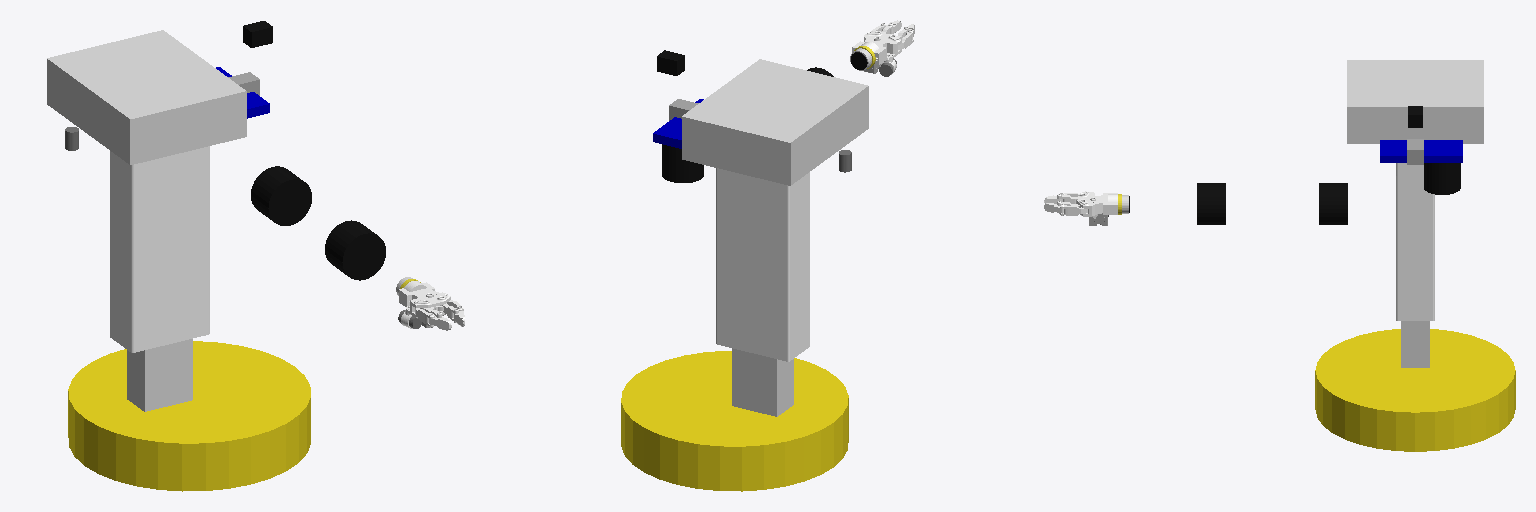
--- Facts derived from the render (not from the file) ---
3 views of the same robot in one strip: view 1: azimuth 30°, elevation 25°; view 2: azimuth 150°, elevation 25°; view 3: azimuth 270°, elevation 25° (orthographic).
Robot: marco — 50 links, 49 joints (16 revolute, 2 continuous, 1 prismatic, 30 fixed); root link base_footprint; default pose: joints at zero except 1 at the middle of their limits (torso_lift_joint = 0.22).
Links seen in each view (by area): view 1: torso_fixed_link, torso_lift_link, laptop_tray_fixed_link, arm_3_link, arm_4_link, gripper_body_link, head_1_link; view 2: torso_fixed_link, torso_lift_link, laptop_tray_fixed_link, arm_1_link, gripper_body_link, head_1_link; view 3: torso_fixed_link, laptop_tray_fixed_link, torso_lift_link, arm_1_link, arm_3_link, arm_4_link, gripper_body_link.
Link boxes in pixels (x1=…): torso_fixed_link: x1=68, y1=339, x2=310, y2=491; torso_lift_link: x1=110, y1=72, x2=259, y2=352; laptop_tray_fixed_link: x1=47, y1=30, x2=246, y2=164; arm_3_link: x1=251, y1=166, x2=311, y2=225; arm_4_link: x1=325, y1=220, x2=385, y2=280; gripper_body_link: x1=405, y1=287, x2=450, y2=318; head_1_link: x1=243, y1=21, x2=272, y2=47; torso_fixed_link: x1=621, y1=348, x2=848, y2=491; torso_lift_link: x1=669, y1=99, x2=809, y2=361; laptop_tray_fixed_link: x1=682, y1=59, x2=868, y2=185; arm_1_link: x1=653, y1=99, x2=703, y2=182; gripper_body_link: x1=859, y1=31, x2=901, y2=60; head_1_link: x1=657, y1=50, x2=684, y2=75; torso_fixed_link: x1=1315, y1=321, x2=1515, y2=451; laptop_tray_fixed_link: x1=1347, y1=60, x2=1483, y2=143; torso_lift_link: x1=1396, y1=139, x2=1434, y2=320; arm_1_link: x1=1380, y1=140, x2=1462, y2=194; arm_3_link: x1=1319, y1=183, x2=1347, y2=224; arm_4_link: x1=1197, y1=183, x2=1225, y2=224; gripper_body_link: x1=1078, y1=191, x2=1107, y2=218.
Size in the robot's own frame: 0.522 by 1.13 by 0.8643 metres.
13 mesh visuals loaded from 23 distinct referenced files (11 binary STL); not drawn: 20 (reference not matched to a file when rendering).

robot.urdf — marco:
<?xml version="1.0" ?>
<!-- =================================================================================== -->
<!-- |    This document was autogenerated by xacro from [local-path]/moveit_ws/src/robot_models/marco/marco_description/robots/marco_titanium.urdf.xacro | -->
<!-- |    EDITING THIS FILE BY HAND IS NOT RECOMMENDED                                 | -->
<!-- =================================================================================== -->
<!--
  Copyright (c) 2011, PAL Robotics, S.L.
  All rights reserved.

  This work is licensed under the Creative Commons Attribution-NonCommercial-NoDerivs 3.0 Unported License.
  To view a copy of this license, visit http://creativecommons.org/licenses/by-nc-nd/3.0/ or send a letter to
  Creative Commons, 444 Castro Street, Suite 900, Mountain View, California, 94041, USA.
-->
<robot name="marco" xmlns:xacro="http://www.ros.org/wiki/xacro">
  <!--<xacro:include filename="$(find pmb2_description)/urdf/sensors/sick_tim561_laser.urdf.xacro"/>-->
  <!--<property name="base_merge_laser_x" value="0.0"/>
  <property name="base_merge_laser_y" value="0.0"/>
  <property name="base_merge_laser_z" value="0.05275"/>
  <property name="base_back_laser_x" value="-0.185"/>
  <property name="base_back_laser_y" value="0.0"/>
  <property name="base_back_laser_z" value="0.05275"/>-->
  <!-- TODO: Update dynamic models -->
  <!-- TODO: Update dynamic models -->
  <!-- Generic simulator_gazebo plugins -->
  <!--<xacro:include filename="$(find hit_gripper_description)/gazebo/gazebo.urdf.xacro" />-->
  <gazebo>
    <plugin filename="libgazebo_ros_control.so" name="gazebo_ros_control">
      <ns/>
      <!-- <robotSimType>marco_hardware_gazebo/MarcoHardwareGazebo</robotSimType> -->
      <robotSimType>pal_hardware_gazebo/PalHardwareGazebo</robotSimType>
      <!-- <robotSimType>gazebo_ros_control/DefaultRobotHWSim</robotSimType> -->
      <robotNamespace/>
      <controlPeriod>0.001</controlPeriod>
    </plugin>
    <plugin filename="libgazebo_ros_p3d.so" name="gazebo_ros_p3d">
      <bodyName>base_link</bodyName>
      <topicName>ground_truth_odom</topicName>
      <alwaysOn>true</alwaysOn>
      <updateRate>100.0</updateRate>
    </plugin>
  </gazebo>
  <gazebo reference="arm_7_link">
    <kp>1000000.0</kp>
    <kd>100.0</kd>
    <mu1>1.0</mu1>
    <mu2>1.0</mu2>
    <fdir1>1 0 0</fdir1>
    <maxVel>1.0</maxVel>
    <minDepth>0.0</minDepth>
  </gazebo>
  <gazebo>
    <plugin filename="libgazebo_world_odometry.so" name="gazebo_ros_odometry">
      <frameName>base_footprint</frameName>
      <topicName>floating_base_pose_simulated</topicName>
    </plugin>
  </gazebo>
  <gazebo reference="base_imu_link">
    <!-- this is expected to be reparented to pelvis with appropriate offset
         when imu_link is reduced by fixed joint reduction -->
    <!-- todo: this is working with gazebo 1.4, need to write a unit test -->
    <sensor name="imu_sensor" type="imu">
      <always_on>1</always_on>
      <update_rate>1000.0</update_rate>
      <imu>
        <noise>
          <type>gaussian</type>
          <!-- Noise parameters from Boston Dynamics
               (http://gazebosim.org/wiki/Sensor_noise):
                 rates (rad/s): mean=0, stddev=2e-4
                 accels (m/s/s): mean=0, stddev=1.7e-2
                 rate bias (rad/s): 5e-6 - 1e-5
                 accel bias (m/s/s): 1e-1
               Experimentally, simulation provide rates with noise of
               about 1e-3 rad/s and accels with noise of about 1e-1 m/s/s.
               So we don't expect to see the noise unless number of inner iterations
               are increased.

               We will add bias.  In this model, bias is sampled once for rates
               and once for accels at startup; the sign (negative or positive)
               of each bias is then switched with equal probability.  Thereafter,
               the biases are fixed additive offsets.  We choose
               bias means and stddevs to produce biases close to the provided
               data. -->
          <rate>
            <mean>0.0</mean>
            <stddev>2e-4</stddev>
            <bias_mean>0.0000075</bias_mean>
            <bias_stddev>0.0000008</bias_stddev>
          </rate>
          <accel>
            <mean>0.0</mean>
            <stddev>1.7e-2</stddev>
            <bias_mean>0.1</bias_mean>
            <bias_stddev>0.001</bias_stddev>
          </accel>
        </noise>
      </imu>
    </sensor>
  </gazebo>
  <material name="Blue">
    <color rgba="0.0 0.0 0.8 1.0"/>
  </material>
  <material name="Green">
    <color rgba="0.0 0.8 0.0 1.0"/>
  </material>
  <material name="Grey">
    <color rgba="0.7 0.7 0.7 1.0"/>
  </material>
  <material name="LightGrey">
    <color rgba="0.9 0.9 0.9 1.0"/>
  </material>
  <material name="DarkGrey">
    <color rgba="0.1 0.1 0.1 1.0"/>
  </material>
  <material name="Red">
    <color rgba="0.8 0.0 0.0 1.0"/>
  </material>
  <material name="White">
    <color rgba="1.0 1.0 1.0 1.0"/>
  </material>
  <material name="Yellow">
    <color rgba="0.96 0.88 0.14 1.0"/>
  </material>
  <!-- Base -->
  <link name="base_link">
    <inertial>
      <origin rpy="0 0 0" xyz="0.0123 0.0071 0.064"/>
      <mass value="28.26649"/>
      <inertia ixx="0.465408937" ixy="0.002160024" ixz="-0.001760255" iyy="0.483193291" iyz="-0.000655952" izz="0.550939703"/>
    </inertial>
    <visual>
      <origin rpy="0 0 0" xyz="0 0 0"/>
      <geometry>
        <mesh filename="package://ant_description/meshes/base/base.stl"/>
      </geometry>
      <material name="DarkGrey"/>
    </visual>
    <collision>
      <origin rpy="0 0 0" xyz="0 0 0"/>
      <geometry>
        <mesh filename="package://ant_description/meshes/base/base_collision.dae"/>
      </geometry>
      <material name="DarkGrey"/>
    </collision>
  </link>
  <gazebo reference="base_link">
    <material>Gazebo/DarkGrey</material>
  </gazebo>
  <!-- Base footprint -->
  <link name="base_footprint"/>
  <joint name="base_footprint_joint" type="fixed">
    <origin rpy="0 0 0" xyz="0 0 0.0985"/>
    <child link="base_link"/>
    <parent link="base_footprint"/>
  </joint>
  <!-- gazebo parameters are given here for base_link thru base_footprint -->
  <gazebo reference="base_footprint">
    <kp>100000000.0</kp>
    <kd>10.0</kd>
    <mu1>0.1</mu1>
    <mu2>0.1</mu2>
    <fdir1>1 0 0</fdir1>
    <maxVel>10.0</maxVel>
    <minDepth>0.0005</minDepth>
    <laserRetro>0</laserRetro>
  </gazebo>
  <!-- Laser -->
  <!-- Theoretic FOV = 220 -->
  <!--<xacro:sick_tim561_laser name="${name}_laser" parent="${name}" ros_topic="scan" update_rate="10" min_angle="${-110 * deg_to_rad}" max_angle="${110 * deg_to_rad}" >
      <origin xyz="${base_laser_x} ${base_laser_y} ${base_laser_z}" rpy="0 0 0" />
    </xacro:sick_tim561_laser>-->
  <link name="base_laser_link" type="laser">
    <inertial>
      <origin rpy="0 0 0" xyz="0 0 -0.04225"/>
      <mass value="0.160"/>
      <inertia ixx="0.00008631543" ixy="-0.00000088815" ixz="-0.00000094079" iyy="0.00008461544" iyz="0.00000139389" izz="0.00005947238"/>
    </inertial>
    <visual>
      <origin rpy="0 0 0" xyz="0 0 0"/>
      <geometry>
        <mesh filename="package://ant_description/meshes/sensors/hokuyo_urg_04lx_ug01.stl"/>
      </geometry>
      <material name="DarkGrey"/>
    </visual>
  </link>
  <joint name="base_laser_joint" type="fixed">
    <axis xyz="0 1 0"/>
    <origin rpy="0 0 0" xyz="0.185 0.0 0.01"/>
    <parent link="base_link"/>
    <child link="base_laser_link"/>
    <dynamics damping="1" friction="1.0"/>
    <limit effort="60" lower="0" upper="0" velocity="20"/>
  </joint>
  <gazebo reference="base_laser_link">
    <sensor name="base_laser" type="ray">
      <pose>0 0 0 0 0 0</pose>
      <update_rate>10</update_rate>
      <visualize>true</visualize>
      <ray>
        <scan>
          <horizontal>
            <!-- 683 steps in 240deg fov -->
            <samples>626.083333333</samples>
            <resolution>1</resolution>
            <!-- not the sensor resolution; just 1 -->
            <min_angle>-1.91986217719</min_angle>
            <max_angle>1.91986217719</max_angle>
          </horizontal>
        </scan>
        <range>
          <min>0.02</min>
          <max>5.6</max>
          <resolution>0.001</resolution>
        </range>
      </ray>
      <plugin filename="libgazebo_ros_laser.so" name="gazebo_ros_hokuyo_laser">
        <gaussianNoise>0.03</gaussianNoise>
        <alwaysOn>true</alwaysOn>
        <updateRate>10</updateRate>
        <topicName>scan</topicName>
        <frameName>base_laser_link</frameName>
      </plugin>
    </sensor>
  </gazebo>
  <!-- Laser -->
  <!--<xacro:hokuyo_merge name="${name}_merge_laser" parent="${name}" ros_topic="scan_merge" update_rate="10" min_angle="${-90 * deg_to_rad}" max_angle="${90 * deg_to_rad}" >
      <origin xyz="${base_merge_laser_x} ${base_merge_laser_y} ${base_merge_laser_z}" rpy="0 0 0" />
    </xacro:hokuyo_merge>-->
  <!-- Laser -->
  <!--<xacro:hokuyo_ubg_04lx_f01_laser name="${name}_back_laser" parent="${name}" ros_topic="scan_back" update_rate="10" min_angle="${-90 * deg_to_rad}" max_angle="${90 * deg_to_rad}" >
      <origin xyz="${base_back_laser_x} ${base_back_laser_y} ${base_back_laser_z}" rpy="0 0 3.14159265359" />
    </xacro:hokuyo_ubg_04lx_f01_laser>-->
  <!-- Sonar -->
  <!--xacro:range_sensor name="${name}_sonar_02" parent="${name}" ros_topic="sonar_base" update_rate="10" maxRange="0.75" minRange="0.01" fov="0.5" radiation="ultrasound">
      <origin xyz="0.18 0.0 0.04" rpy="0.0 ${-10.0 * deg_to_rad} 0.0" />
    </xacro:range_sensor-->
  <!-- Sonar -->
  <!--xacro:range_sensor name="${name}_sonar_03" parent="${name}" ros_topic="sonar_base" update_rate="10" maxRange="0.75" minRange="0.01" fov="0.5" radiation="ultrasound">
      <origin xyz="0.15 0.1 0.04" rpy="0.0 ${-10.0 * deg_to_rad} ${40.0 * deg_to_rad}" />
    </xacro:range_sensor-->
  <!-- Sonar -->
  <!--xacro:range_sensor name="${name}_sonar_01" parent="${name}" ros_topic="sonar_base" update_rate="10" maxRange="0.75" minRange="0.01" fov="0.5" radiation="ultrasound">
      <origin xyz="0.15 -0.1 0.04" rpy="0.0 ${-10.0 * deg_to_rad} ${-40.0 * deg_to_rad}" />
    </xacro:range_sensor-->
  <!-- Bumper right -->
  <!--xacro:bumper name="${name}_bumper_01" parent="${name}" ros_topic="bumper_base" update_rate="25" >
      <origin xyz="0.16 -0.12 0.00" rpy="0 0 ${-20.0 * deg_to_rad}" />
    </xacro:bumper-->
  <!-- Bumper left -->
  <!--xacro:bumper name="${name}_bumper_02" parent="${name}" ros_topic="bumper_base" update_rate="25" >
      <origin xyz="0.16 0.12 0.00" rpy="0 0 ${20.0 * deg_to_rad}" />
    </xacro:bumper-->
  <!-- IMU -->
  <!-- @todo ant_hardware_gazebo needs an IMU!  -->
  <!--<xacro:imu_sensor name="base_inclinometer" parent="${name}_link" update_rate="100.0">
      <origin xyz="0 0 ${base_length / 2}" rpy="0 0 0"/>
    </xacro:imu_sensor>-->
  <!-- IR receiver -->
  <!--xacro:ir_receiver name="${name}_ir_receiver_01" parent="${name}" ros_topic="ir_receiver_base" update_rate="10" range_min="0.0" range_max="0.75" fov="0.5">
      <origin xyz="0.17131 0.0 0.180" rpy="0.0 0.0 0.0" />
    </xacro:ir_receiver-->
  <!-- IR receiver -->
  <!--xacro:ir_receiver name="${name}_ir_receiver_02" parent="${name}" ros_topic="ir_receiver_base" update_rate="10" range_min="0.0" range_max="0.75" fov="0.5">
      <origin xyz="0.16919 0.14919 0.180" rpy="0.0 0.0 0.349" />
    </xacro:ir_receiver-->
  <!-- IR receiver -->
  <!--xacro:ir_receiver name="${name}_ir_receiver_03" parent="${name}" ros_topic="ir_receiver_base" update_rate="10" range_min="0.0" range_max="0.75" fov="0.5">
      <origin xyz="0.16919 -0.14919 0.180" rpy="0.0 0.0 -0.349" />
    </xacro:ir_receiver-->
  <link name="wheel_right_link">
    <inertial>
      <origin rpy="0 0 0" xyz="0 0 -0.00207"/>
      <mass value="1.82362"/>
      <inertia ixx="0.00499743171" ixy="4.464e-08" ixz="-0.00000002245" iyy="0.00499741733" iyz="-1.64e-09" izz="0.00839239692"/>
    </inertial>
    <visual>
      <origin rpy="-0.0 0 0" xyz="0 0 0"/>
      <geometry>
        <mesh filename="package://ant_description/meshes/wheels/wheel.stl"/>
      </geometry>
      <material name="LightGrey"/>
    </visual>
    <collision>
      <origin rpy="0 0 0" xyz="0 0 0"/>
      <geometry>
        <cylinder length="0.04" radius="0.0985"/>
      </geometry>
    </collision>
  </link>
  <joint name="wheel_right_joint" type="continuous">
    <parent link="base_link"/>
    <child link="wheel_right_link"/>
    <origin rpy="-1.57079632679 0 0" xyz="0 -0.2022 0"/>
    <axis xyz="0 0 1"/>
    <limit effort="6.0" velocity="10.152284264"/>
  </joint>
  <transmission name="wheel_right_trans">
    <type>transmission_interface/SimpleTransmission</type>
    <actuator name="wheel_right_motor">
      <mechanicalReduction>1.0</mechanicalReduction>
    </actuator>
    <joint name="wheel_right_joint">
      <hardwareInterface>hardware_interface/VelocityJointInterface</hardwareInterface>
    </joint>
  </transmission>
  <!-- Contact model for the wheel surface -->
  <gazebo reference="wheel_right_link">
    <kp>1000000.0</kp>
    <kd>100.0</kd>
    <mu1>1.0</mu1>
    <mu2>1.0</mu2>
    <fdir1>1 0 0</fdir1>
    <maxVel>1.0</maxVel>
    <minDepth>0.003</minDepth>
    <implicitSpringDamper>1</implicitSpringDamper>
    <material>Gazebo/DarkGrey</material>
  </gazebo>
  <link name="wheel_left_link">
    <inertial>
      <origin rpy="0 0 0" xyz="0 0 0.00207"/>
      <mass value="1.82362"/>
      <inertia ixx="0.00499743171" ixy="-4.464e-08" ixz="-0.00000002245" iyy="0.00499741733" iyz="1.64e-09" izz="0.00839239692"/>
    </inertial>
    <visual>
      <origin rpy="-3.14159265359 0 0" xyz="0 0 0"/>
      <geometry>
        <mesh filename="package://ant_description/meshes/wheels/wheel.stl"/>
      </geometry>
      <material name="LightGrey"/>
    </visual>
    <collision>
      <origin rpy="0 0 0" xyz="0 0 0"/>
      <geometry>
        <cylinder length="0.04" radius="0.0985"/>
      </geometry>
    </collision>
  </link>
  <joint name="wheel_left_joint" type="continuous">
    <parent link="base_link"/>
    <child link="wheel_left_link"/>
    <origin rpy="-1.57079632679 0 0" xyz="0 0.2022 0"/>
    <axis xyz="0 0 1"/>
    <limit effort="6.0" velocity="10.152284264"/>
  </joint>
  <transmission name="wheel_left_trans">
    <type>transmission_interface/SimpleTransmission</type>
    <actuator name="wheel_left_motor">
      <mechanicalReduction>1.0</mechanicalReduction>
    </actuator>
    <joint name="wheel_left_joint">
      <hardwareInterface>hardware_interface/VelocityJointInterface</hardwareInterface>
    </joint>
  </transmission>
  <!-- Contact model for the wheel surface -->
  <gazebo reference="wheel_left_link">
    <kp>1000000.0</kp>
    <kd>100.0</kd>
    <mu1>1.0</mu1>
    <mu2>1.0</mu2>
    <fdir1>1 0 0</fdir1>
    <maxVel>1.0</maxVel>
    <minDepth>0.003</minDepth>
    <implicitSpringDamper>1</implicitSpringDamper>
    <material>Gazebo/DarkGrey</material>
  </gazebo>
  <link name="caster_front_right_1_link">
    <inertial>
      <origin rpy="0 0 0" xyz="-0.01108 0.00003 -0.030"/>
      <mass value="0.101"/>
      <inertia ixx="0.00002779423" ixy="-0.00000001384" ixz="0.0000074479" iyy="0.00002767062" iyz="-0.00000002774" izz="0.00001727605"/>
    </inertial>
    <visual>
      <origin rpy="0 0 0" xyz="0 0 0"/>
      <geometry>
        <mesh filename="package://ant_description/meshes/wheels/caster_1.stl"/>
      </geometry>
      <material name="Grey"/>
    </visual>
    <!--<collision>
        <origin xyz="0 0 0" rpy="0 0 0"/>
        <geometry>
          <mesh filename="package://ant_description/meshes/wheels/caster.stl"/>
        </geometry>
      </collision>-->
  </link>
  <link name="caster_front_right_2_link">
    <inertial>
      <origin rpy="0 0 0" xyz="0 0 0"/>
      <mass value="0.03677"/>
      <inertia ixx="0.00000755221" ixy="0" ixz="0" iyy="0.00000755221" iyz="0" izz="0.00001281996"/>
    </inertial>
    <visual>
      <origin rpy="0 0 0" xyz="0 0 0"/>
      <geometry>
        <mesh filename="package://ant_description/meshes/wheels/caster_2.stl"/>
      </geometry>
      <material name="Grey"/>
    </visual>
    <!--<collision>
        <origin xyz="0 0 0" rpy="0 0 0"/>
        <geometry>
          <cylinder radius="${radius}" length="${width}"/>
        </geometry>
        <surface>
          <friction>
            <ode>
              <mu> 0.01</mu>
              <mu2>0.01</mu2>
            </ode>
          </friction>
        </surface>
      </collision>-->
  </link>
  <joint name="caster_front_right_1_joint" type="fixed">
    <parent link="base_link"/>
    <child link="caster_front_right_1_link"/>
    <origin rpy="0 0 0" xyz="0.1715 -0.102 -0.04"/>
    <axis xyz="0 0 1"/>
  </joint>
  <joint name="caster_front_right_2_joint" type="fixed">
    <parent link="caster_front_right_1_link"/>
    <child link="caster_front_right_2_link"/>
    <origin rpy="-1.57079632679 0 0" xyz="-0.017 0.0003 -0.032"/>
    <axis xyz="0 0 1"/>
  </joint>
  <!-- Transmission -->
  <!--<xacro:caster_transmission name="${name}" side="${side}" number="${number}" reduction="1"/>-->
  <!-- Gazebo extensions -->
  <!--<xacro:caster_gazebo side="${side}"/>-->
  <link name="caster_front_left_1_link">
    <inertial>
      <origin rpy="0 0 0" xyz="-0.01108 0.00003 -0.030"/>
      <mass value="0.101"/>
      <inertia ixx="0.00002779423" ixy="-0.00000001384" ixz="0.0000074479" iyy="0.00002767062" iyz="-0.00000002774" izz="0.00001727605"/>
    </inertial>
    <visual>
      <origin rpy="0 0 0" xyz="0 0 0"/>
      <geometry>
        <mesh filename="package://ant_description/meshes/wheels/caster_1.stl"/>
      </geometry>
      <material name="Grey"/>
    </visual>
    <!--<collision>
        <origin xyz="0 0 0" rpy="0 0 0"/>
        <geometry>
          <mesh filename="package://ant_description/meshes/wheels/caster.stl"/>
        </geometry>
      </collision>-->
  </link>
  <link name="caster_front_left_2_link">
    <inertial>
      <origin rpy="0 0 0" xyz="0 0 0"/>
      <mass value="0.03677"/>
      <inertia ixx="0.00000755221" ixy="0" ixz="0" iyy="0.00000755221" iyz="0" izz="0.00001281996"/>
    </inertial>
    <visual>
      <origin rpy="0 0 0" xyz="0 0 0"/>
      <geometry>
        <mesh filename="package://ant_description/meshes/wheels/caster_2.stl"/>
      </geometry>
      <material name="Grey"/>
    </visual>
    <!--<collision>
        <origin xyz="0 0 0" rpy="0 0 0"/>
        <geometry>
          <cylinder radius="${radius}" length="${width}"/>
        </geometry>
        <surface>
          <friction>
            <ode>
              <mu> 0.01</mu>
              <mu2>0.01</mu2>
            </ode>
          </friction>
        </surface>
      </collision>-->
  </link>
  <joint name="caster_front_left_1_joint" type="fixed">
    <parent link="base_link"/>
    <child link="caster_front_left_1_link"/>
    <origin rpy="0 0 0" xyz="0.1715 0.102 -0.04"/>
    <axis xyz="0 0 1"/>
  </joint>
  <joint name="caster_front_left_2_joint" type="fixed">
    <parent link="caster_front_left_1_link"/>
    <child link="caster_front_left_2_link"/>
    <origin rpy="-1.57079632679 0 0" xyz="-0.017 0.0003 -0.032"/>
    <axis xyz="0 0 1"/>
  </joint>
  <!-- Transmission -->
  <!--<xacro:caster_transmission name="${name}" side="${side}" number="${number}" reduction="1"/>-->
  <!-- Gazebo extensions -->
  <!--<xacro:caster_gazebo side="${side}"/>-->
  <link name="caster_back_right_1_link">
    <inertial>
      <origin rpy="0 0 0" xyz="-0.01108 0.00003 -0.030"/>
      <mass value="0.101"/>
      <inertia ixx="0.00002779423" ixy="-0.00000001384" ixz="0.0000074479" iyy="0.00002767062" iyz="-0.00000002774" izz="0.00001727605"/>
    </inertial>
    <visual>
      <origin rpy="0 0 0" xyz="0 0 0"/>
      <geometry>
        <mesh filename="package://ant_description/meshes/wheels/caster_1.stl"/>
      </geometry>
      <material name="Grey"/>
    </visual>
    <!--<collision>
        <origin xyz="0 0 0" rpy="0 0 0"/>
        <geometry>
          <mesh filename="package://ant_description/meshes/wheels/caster.stl"/>
        </geometry>
      </collision>-->
  </link>
  <link name="caster_back_right_2_link">
    <inertial>
      <origin rpy="0 0 0" xyz="0 0 0"/>
      <mass value="0.03677"/>
      <inertia ixx="0.00000755221" ixy="0" ixz="0" iyy="0.00000755221" iyz="0" izz="0.00001281996"/>
    </inertial>
    <visual>
      <origin rpy="0 0 0" xyz="0 0 0"/>
      <geometry>
        <mesh filename="package://ant_description/meshes/wheels/caster_2.stl"/>
      </geometry>
      <material name="Grey"/>
    </visual>
    <!--<collision>
        <origin xyz="0 0 0" rpy="0 0 0"/>
        <geometry>
          <cylinder radius="${radius}" length="${width}"/>
        </geometry>
        <surface>
          <friction>
            <ode>
              <mu> 0.01</mu>
              <mu2>0.01</mu2>
            </ode>
          </friction>
        </surface>
      </collision>-->
  </link>
  <joint name="caster_back_right_1_joint" type="fixed">
    <parent link="base_link"/>
    <child link="caster_back_right_1_link"/>
    <origin rpy="0 0 0" xyz="-0.1715 -0.102 -0.04"/>
    <axis xyz="0 0 1"/>
  </joint>
  <joint name="caster_back_right_2_joint" type="fixed">
    <parent link="caster_back_right_1_link"/>
    <child link="caster_back_right_2_link"/>
    <origin rpy="-1.57079632679 0 0" xyz="-0.017 0.0003 -0.032"/>
    <axis xyz="0 0 1"/>
  </joint>
  <!-- Transmission -->
  <!--<xacro:caster_transmission name="${name}" side="${side}" number="${number}" reduction="1"/>-->
  <!-- Gazebo extensions -->
  <!--<xacro:caster_gazebo side="${side}"/>-->
  <link name="caster_back_left_1_link">
    <inertial>
      <origin rpy="0 0 0" xyz="-0.01108 0.00003 -0.030"/>
      <mass value="0.101"/>
      <inertia ixx="0.00002779423" ixy="-0.00000001384" ixz="0.0000074479" iyy="0.00002767062" iyz="-0.00000002774" izz="0.00001727605"/>
    </inertial>
    <visual>
      <origin rpy="0 0 0" xyz="0 0 0"/>
      <geometry>
        <mesh filename="package://ant_description/meshes/wheels/caster_1.stl"/>
      </geometry>
      <material name="Grey"/>
    </visual>
    <!--<collision>
        <origin xyz="0 0 0" rpy="0 0 0"/>
        <geometry>
          <mesh filename="package://ant_description/meshes/wheels/caster.stl"/>
        </geometry>
      </collision>-->
  </link>
  <link name="caster_back_left_2_link">
    <inertial>
      <origin rpy="0 0 0" xyz="0 0 0"/>
      <mass value="0.03677"/>
      <inertia ixx="0.00000755221" ixy="0" ixz="0" iyy="0.00000755221" iyz="0" izz="0.00001281996"/>
    </inertial>
    <visual>
      <origin rpy="0 0 0" xyz="0 0 0"/>
      <geometry>
        <mesh filename="package://ant_description/meshes/wheels/caster_2.stl"/>
      </geometry>
      <material name="Grey"/>
    </visual>
    <!--<collision>
        <origin xyz="0 0 0" rpy="0 0 0"/>
        <geometry>
          <cylinder radius="${radius}" length="${width}"/>
        </geometry>
        <surface>
          <friction>
            <ode>
              <mu> 0.01</mu>
              <mu2>0.01</mu2>
            </ode>
          </friction>
        </surface>
      </collision>-->
  </link>
  <joint name="caster_back_left_1_joint" type="fixed">
    <parent link="base_link"/>
    <child link="caster_back_left_1_link"/>
    <origin rpy="0 0 0" xyz="-0.1715 0.102 -0.04"/>
    <axis xyz="0 0 1"/>
  </joint>
  <joint name="caster_back_left_2_joint" type="fixed">
    <parent link="caster_back_left_1_link"/>
    <child link="caster_back_left_2_link"/>
    <origin rpy="-1.57079632679 0 0" xyz="-0.017 0.0003 -0.032"/>
    <axis xyz="0 0 1"/>
  </joint>
  <!-- Transmission -->
  <!--<xacro:caster_transmission name="${name}" side="${side}" number="${number}" reduction="1"/>-->
  <!-- Gazebo extensions -->
  <!--<xacro:caster_gazebo side="${side}"/>-->
  <link name="torso_fixed_link">
    <inertial>
      <origin rpy="0 0 0" xyz="0 0 0.2"/>
      <mass value="7.22876"/>
      <inertia ixx="0.04461581" ixy="0" ixz="0" iyy="0.004656386" iyz="0" izz="0.000459957"/>
    </inertial>
    <visual>
      <origin rpy="0 0 0" xyz="0 0 0"/>
      <geometry>
        <!-- <box size="0.11 0.07 0.40"/> -->
        <mesh filename="package://marco_description/meshes/torso/lifting_column_inner_body2.stl" scale="0.001 0.001 0.001"/>
      </geometry>
      <material name="LightGrey"/>
    </visual>
    <collision>
      <origin rpy="0 0 0" xyz="0 0 0"/>
      <geometry>
        <!-- <box size="0.11 0.07 0.40"/> -->
        <mesh filename="package://marco_description/meshes/torso/lifting_column_inner_body2.stl" scale="0.001 0.001 0.001"/>
      </geometry>
      <material name="LightGrey"/>
    </collision>
    <!-- TODO: REMOVE -->
    <!-- Preseries marco boxes on the outside, these should go away in series version -->
    <!-- column motor -->
    <!--
    <visual>
      <origin rpy="${90*deg_to_rad} 0 0" xyz="-0.02 -0.09 0.035" />
      <geometry>
        <cylinder radius="0.035" length="0.09"/>
      </geometry>
      <material name="Yellow"/>
    </visual>
    <collision>
      <origin rpy="${90*deg_to_rad} 0 0" xyz="-0.02 -0.09 0.035" />
      <geometry>
        <cylinder radius="0.035" length="0.09"/>
      </geometry>
      <material name="Yellow"/>
    </collision>
    -->
    <!-- column electronics box -->
    <!--
    <visual>
      <origin rpy="0 0 0" xyz="0.04 -0.175 0.03" />
      <geometry>
        <box size="0.13 0.13 0.06"/>
      </geometry>
      <material name="Yellow"/>
    </visual>
    <collision>
      <origin rpy="0 0 0" xyz="0.04 -0.175 0.03" />
      <geometry>
        <box size="0.13 0.13 0.06"/>
      </geometry>
      <material name="Yellow"/>
    </collision>
    -->
    <!-- cable carrier -->
    <!-- 
    <visual>
      <origin rpy="0 0 0" xyz="0.045 -0.1 0.2" />
      <geometry>
        <box size="0.04 0.10 0.4"/>
      </geometry>
      <material name="Yellow"/>
    </visual>
    <collision>
      <origin rpy="0 0 0" xyz="0.045 -0.1 0.2" />
      <geometry>
        <box size="0.04 0.10 0.4"/>
      </geometry>
      <material name="Yellow"/>
    </collision>
    -->
    <!-- mobile base top cover -->
    <visual>
      <origin rpy="0 0 0" xyz="0.068 0 0.052"/>
      <geometry>
        <cylinder length="0.104" radius="0.24"/>
      </geometry>
      <material name="Yellow"/>
    </visual>
    <collision>
      <origin rpy="0 0 0" xyz="0.068 0 -0.12"/>
      <geometry>
        <cylinder length="0.104" radius="0.24"/>
      </geometry>
      <material name="Yellow"/>
    </collision>
  </link>
  <joint name="torso_fixed_joint" type="fixed">
    <origin rpy="0 0 0" xyz="-0.068 0 0.19"/>
    <parent link="base_link"/>
    <child link="torso_fixed_link"/>
    <axis xyz="0 0 0"/>
  </joint>
  <link name="torso_lift_link">
    <inertial>
      <origin rpy="0 0 0" xyz="0 0 0.25157222"/>
      <mass value="6.5"/>
      <inertia ixx="0.016995177" ixy="0" ixz="-0.000000024" iyy="0.019054848" iyz="0" izz="0.004231158"/>
    </inertial>
    <!-- Lifting body -->
    <visual>
      <origin rpy="0 0 0" xyz="0 0 -0.474"/>
      <geometry>
        <mesh filename="package://marco_description/meshes/torso/lifting_column_moving_link.stl" scale="0.001 0.001 0.001"/>
        <!-- 474x170x82 mm -->
      </geometry>
      <material name="White"/>
    </visual>
    <collision>
      <origin rpy="0 0 0" xyz="0 0 -0.474"/>
      <geometry>
        <mesh filename="package://marco_description/meshes/torso/lifting_column_moving_link.stl" scale="0.001 0.001 0.001"/>
      </geometry>
      <material name="White"/>
    </collision>
    <!-- Head pan motor -->
    <visual>
      <origin rpy="0 0 0" xyz="0.187 0 0.02"/>
      <geometry>
        <box size="0.06 0.04 0.04"/>
      </geometry>
      <material name="Grey"/>
    </visual>
    <collision>
      <origin rpy="0 0 0" xyz="0.187 0 0.02"/>
      <geometry>
        <box size="0.06 0.04 0.04"/>
      </geometry>
      <material name="Grey"/>
    </collision>
    <!-- cable carrier -->
    <!--
    <visual>
      <origin rpy="0 0 0" xyz="0.045 -0.1 -0.4" />
      <geometry>
        <box size="0.04 0.10 0.4"/>
      </geometry>
      <material name="Yellow"/>
    </visual>
    <collision>
      <origin rpy="0 0 0" xyz="0.045 -0.1 -0.4" />
      <geometry>
        <box size="0.04 0.10 0.4"/>
      </geometry>
      <material name="Yellow"/>
    </collision>
    <visual>
      <origin rpy="0 0 0" xyz="0.085 -0.025 -0.25" />
      <geometry>
        <box size="0.025 0.05 0.5"/>
      </geometry>
      <material name="Yellow"/>
    </visual>
  -->
  </link>
  <joint name="torso_lift_joint" type="prismatic">
    <origin rpy="0 0 0" xyz="0.0 0.0 0.4983"/>
    <parent link="torso_fixed_link"/>
    <child link="torso_lift_link"/>
    <axis xyz="0 0 1"/>
    <limit effort="2000" lower="0.09" upper="0.35" velocity="0.05"/>
    <calibration rising="0.0"/>
    <dynamics damping="1000"/>
    <safety_controller k_position="20" k_velocity="20" soft_lower_limit="0.09" soft_upper_limit="0.35"/>
  </joint>
  <transmission name="torso_lift_trans">
    <type>transmission_interface/SimpleTransmission</type>
    <actuator name="torso_lift_motor">
      <mechanicalReduction>1.0</mechanicalReduction>
    </actuator>
    <joint name="torso_lift_joint">
      <hardwareInterface>hardware_interface/PositionJointInterface</hardwareInterface>
    </joint>
  </transmission>
  <!-- laptop tray -->
  <link name="laptop_tray_fixed_link">
    <inertial>
      <origin rpy="0 0 0" xyz="0 0 0"/>
      <mass value="0.1"/>
      <inertia ixx="0.0001" ixy="0.0" ixz="0.0" iyy="0.0001" iyz="0.0" izz="0.0001"/>
    </inertial>
    <visual>
      <origin rpy="0 0 0" xyz="0 0 0"/>
      <geometry>
        <box size="0.265 0.33 0.1"/>
      </geometry>
      <material name="LightGrey"/>
    </visual>
    <collision>
      <origin rpy="0 0 0" xyz="0 0 0"/>
      <geometry>
        <box size="0.265 0.33 0.1"/>
      </geometry>
      <material name="LightGrey"/>
    </collision>
  </link>
  <joint name="laptop_tray_fixed_joint" type="fixed">
    <origin rpy="0 0 0" xyz="-0.03 0 0.05"/>
    <parent link="torso_lift_link"/>
    <child link="laptop_tray_fixed_link"/>
    <axis xyz="0 0 0"/>
  </joint>
  <!-- frames in the center of the camera -->
  <joint name="rear_cam_joint" type="fixed">
    <origin rpy="0 0 0" xyz="-0.20 0 0"/>
    <parent link="torso_lift_link"/>
    <child link="rear_cam_link"/>
  </joint>
  <link name="rear_cam_link">
    <inertial>
      <origin rpy="0 0 0" xyz="0 0 0"/>
      <mass value="1e-5"/>
      <inertia ixx="1e-6" ixy="0.00000000000" ixz="0.00000002565" iyy="1e-6" iyz="0.00000000000" izz="1e-6"/>
    </inertial>
    <visual>
      <origin rpy="0 0 0" xyz="0 0 0"/>
      <geometry>
        <cylinder length="0.04" radius="0.014"/>
      </geometry>
      <material name="Grey">
        <color rgba="0.5 0.5 0.5 1"/>
      </material>
    </visual>
    <collision>
      <origin rpy="0 0 0" xyz="0 0 0"/>
      <geometry>
        <cylinder length="0.04" radius="0.014"/>
      </geometry>
    </collision>
  </link>
  <joint name="rear_cam_optical_joint" type="fixed">
    <origin rpy="-1.57079632679 1.57079632679 -1.57079632679" xyz="0 0 -0.025"/>
    <parent link="rear_cam_link"/>
    <child link="rear_cam_optical_frame"/>
  </joint>
  <link name="rear_cam_optical_frame">
    <inertial>
      <origin rpy="0 0 0" xyz="0 0 0"/>
      <mass value="0.001"/>
      <inertia ixx="0.00001" ixy="0" ixz="0" iyy="0.00001" iyz="0" izz="0.00001"/>
    </inertial>
  </link>
  <!-- camera -->
  <gazebo reference="rear_cam_optical_frame">
    <sensor name="rear_cam" type="camera">
      <update_rate>30.0</update_rate>
      <camera name="rear_cam">
        <horizontal_fov>1.3962634</horizontal_fov>
        <image>
          <width>1280</width>
          <height>720</height>
          <format>R8G8B8</format>
        </image>
        <clip>
          <near>0.02</near>
          <far>300</far>
        </clip>
        <noise>
          <type>gaussian</type>
          <!-- Noise is sampled independently per pixel on each frame.
               That pixel's noise value is added to each of its color
               channels, which at that point lie in the range [0,1]. -->
          <mean>0.0</mean>
          <stddev>0.007</stddev>
        </noise>
      </camera>
      <plugin filename="libgazebo_ros_camera.so" name="camera_controller">
        <alwaysOn>true</alwaysOn>
        <updateRate>0.0</updateRate>
        <cameraName>rear_cam</cameraName>
        <imageTopicName>image_raw</imageTopicName>
        <cameraInfoTopicName>camera_info</cameraInfoTopicName>
        <frameName>rear_cam_optical_frame</frameName>
        <!-- setting hackBaseline to anything but 0.0 will cause a misalignment
            between the gazebo sensor image and the frame it is supposed to
            be attached to -->
        <hackBaseline>0.0</hackBaseline>
        <distortionK1>0.0</distortionK1>
        <distortionK2>0.0</distortionK2>
        <distortionK3>0.0</distortionK3>
        <distortionT1>0.0</distortionT1>
        <distortionT2>0.0</distortionT2>
        <CxPrime>0</CxPrime>
        <Cx>0.0</Cx>
        <Cy>0.0</Cy>
        <focalLength>0.0</focalLength>
      </plugin>
    </sensor>
  </gazebo>
  <link name="head_1_link">
    <inertial>
      <origin rpy="0 0 0" xyz="0.0208 -0.00025 0.0215"/>
      <mass value="0.09793"/>
      <inertia ixx="0.00005844626" ixy="-0.00000051494" ixz="0.00004662971" iyy="0.00001161435" iyz="0.000000001" izz="0.00005236593"/>
    </inertial>
    <visual>
      <origin rpy="0 0 0" xyz="0.0305 0 0.0175"/>
      <geometry>
        <box size="0.05 0.035 0.035"/>
      </geometry>
      <material name="DarkGrey"/>
    </visual>
    <collision>
      <origin rpy="0 0 0" xyz="0.0305 0 0.0175"/>
      <geometry>
        <box size="0.05 0.035 0.035"/>
      </geometry>
      <material name="DarkGrey"/>
    </collision>
  </link>
  <joint name="head_1_joint" type="revolute">
    <parent link="torso_lift_link"/>
    <child link="head_1_link"/>
    <origin rpy="0.0 0 0" xyz="0.193 0 0.111"/>
    <axis xyz="0 0 1"/>
    <limit effort="5.197" lower="-1.308996939" upper="1.308996939" velocity="3.0"/>
    <dynamics damping="0.5" friction="1.0"/>
    <safety_controller k_position="20" k_velocity="20" soft_lower_limit="-1.288996939" soft_upper_limit="1.288996939"/>
  </joint>
  <gazebo reference="head_1_link">
    <mu1>0.9</mu1>
    <mu2>0.9</mu2>
  </gazebo>
  <gazebo reference="head_1_joint">
    <implicitSpringDamper>1</implicitSpringDamper>
  </gazebo>
  <transmission name="head_1_trans">
    <type>transmission_interface/SimpleTransmission</type>
    <actuator name="head_1_motor">
      <mechanicalReduction>1</mechanicalReduction>
    </actuator>
    <joint name="head_1_joint">
      <hardwareInterface>hardware_interface/PositionJointInterface</hardwareInterface>
    </joint>
  </transmission>
  <link name="head_2_link">
    <inertial>
      <origin rpy="0 0 0" xyz="0.04149 -0.01221 0.001"/>
      <mass value="0.24875"/>
      <inertia ixx="0.0000498057" ixy="0" ixz="0" iyy="0.0004492213" iyz="0" izz="0.00048113173"/>
    </inertial>
    <visual>
      <origin rpy="0 1.57079632679 0" xyz="0.070192 0.017614 0"/>
      <geometry>
        <mesh filename="package://marco_description/meshes/head.dae" scale="1 1 1"/>
      </geometry>
      <material name="LightGrey"/>
    </visual>
    <collision>
      <origin rpy="1.57079632679 0 0" xyz="0.05 0.0 0.0"/>
      <geometry>
        <box size="0.05 0.21 0.085"/>
      </geometry>
    </collision>
  </link>
  <joint name="head_2_joint" type="revolute">
    <parent link="head_1_link"/>
    <child link="head_2_link"/>
    <origin rpy="1.57079632679 0 0" xyz="0.0355 0 0.023"/>
    <axis xyz="0 0 1"/>
    <limit effort="2.77" lower="-1.0471975512" upper="0.632681853848" velocity="3.0"/>
    <dynamics damping="0.5" friction="1.0"/>
    <safety_controller k_position="20" k_velocity="20" soft_lower_limit="-1.0271975512" soft_upper_limit="0.632681853848"/>
  </joint>
  <gazebo reference="head_2_link">
    <mu1>0.9</mu1>
    <mu2>0.9</mu2>
  </gazebo>
  <gazebo reference="head_2_joint">
    <implicitSpringDamper>1</implicitSpringDamper>
  </gazebo>
  <transmission name="head_2_trans">
    <type>transmission_interface/SimpleTransmission</type>
    <actuator name="head_2_motor">
      <mechanicalReduction>1</mechanicalReduction>
    </actuator>
    <joint name="head_2_joint">
      <hardwareInterface>hardware_interface/PositionJointInterface</hardwareInterface>
    </joint>
  </transmission>
  <!-- frames in the center of the camera -->
  <joint name="xtion_joint" type="fixed">
    <origin rpy="-1.57079632679 0 0" xyz="0.064192 0.017614 0"/>
    <parent link="head_2_link"/>
    <child link="xtion_link"/>
  </joint>
  <link name="xtion_link">
    <inertial>
      <origin rpy="0 0 0" xyz="-0.00936000000 -0.00003000000 -0.00273000000"/>
      <mass value="0.21970000000"/>
      <inertia ixx="0.00000429247" ixy="0.00000000000" ixz="0.00000002565" iyy="0.00000008027" iyz="0.00000000000" izz="0.00000427339"/>
    </inertial>
    <visual>
      <origin rpy="0 0 0" xyz="0 0 0"/>
      <geometry>
        <mesh filename="package://marco_description/meshes/sensors/xtion_pro_live/xtion_pro_live.dae"/>
      </geometry>
      <material name="Grey">
        <color rgba="0.5 0.5 0.5 1"/>
      </material>
    </visual>
    <collision>
      <origin rpy="0 0 0" xyz="-0.01 0.0025 0"/>
      <geometry>
        <box size="0.04 0.185 0.03"/>
      </geometry>
    </collision>
  </link>
  <joint name="xtion_optical_joint" type="fixed">
    <origin rpy="-1.57079632679 0.0 -1.57079632679" xyz="0 0 0"/>
    <parent link="xtion_link"/>
    <child link="xtion_optical_frame"/>
  </joint>
  <link name="xtion_optical_frame">
    <inertial>
      <origin rpy="0 0 0" xyz="0 0 0"/>
      <mass value="0.001"/>
      <inertia ixx="0.00001" ixy="0" ixz="0" iyy="0.00001" iyz="0" izz="0.00001"/>
    </inertial>
  </link>
  <!-- frames of the depth sensor -->
  <joint name="xtion_depth_joint" type="fixed">
    <origin rpy="0 0 0" xyz="0.0 0.049 0.0"/>
    <parent link="xtion_link"/>
    <child link="xtion_depth_frame"/>
  </joint>
  <link name="xtion_depth_frame">
    <inertial>
      <origin rpy="0 0 0" xyz="0 0 0"/>
      <mass value="0.001"/>
      <inertia ixx="0.00001" ixy="0" ixz="0" iyy="0.00001" iyz="0" izz="0.00001"/>
    </inertial>
  </link>
  <joint name="xtion_depth_optical_joint" type="fixed">
    <origin rpy="-1.57079632679 0.0 -1.57079632679" xyz="0 0 0"/>
    <parent link="xtion_depth_frame"/>
    <child link="xtion_depth_optical_frame"/>
  </joint>
  <link name="xtion_depth_optical_frame">
    <inertial>
      <origin rpy="0 0 0" xyz="0 0 0"/>
      <mass value="0.001"/>
      <inertia ixx="0.00001" ixy="0" ixz="0" iyy="0.00001" iyz="0" izz="0.00001"/>
    </inertial>
  </link>
  <!-- frames of the rgb sensor -->
  <joint name="xtion_rgb_joint" type="fixed">
    <origin rpy="0 0 0" xyz="0.0 0.022 0.0"/>
    <parent link="xtion_link"/>
    <child link="xtion_rgb_frame"/>
  </joint>
  <link name="xtion_rgb_frame">
    <inertial>
      <origin rpy="0 0 0" xyz="0 0 0"/>
      <mass value="0.001"/>
      <inertia ixx="0.00001" ixy="0" ixz="0" iyy="0.00001" iyz="0" izz="0.00001"/>
    </inertial>
  </link>
  <joint name="xtion_rgb_optical_joint" type="fixed">
    <origin rpy="-1.57079632679 0.0 -1.57079632679" xyz="0 0 0"/>
    <parent link="xtion_rgb_frame"/>
    <child link="xtion_rgb_optical_frame"/>
  </joint>
  <link name="xtion_rgb_optical_frame">
    <inertial>
      <origin rpy="0 0 0" xyz="0 0 0"/>
      <mass value="0.001"/>
      <inertia ixx="0.00001" ixy="0" ixz="0" iyy="0.00001" iyz="0" izz="0.00001"/>
    </inertial>
  </link>
  <gazebo reference="xtion_link">
    <sensor name="xtion_frame_sensor" type="depth">
      <always_on>true</always_on>
      <update_rate>30.0</update_rate>
      <camera>
        <horizontal_fov>1.01229096616</horizontal_fov>
        <image>
          <format>R8G8B8</format>
          <width>640</width>
          <height>480</height>
        </image>
        <clip>
          <near>0.3</near>
          <far>8.0</far>
        </clip>
      </camera>
      <plugin filename="libgazebo_ros_openni_kinect.so" name="xtion_frame_controller">
        <alwaysOn>true</alwaysOn>
        <updateRate>30.0</updateRate>
        <cameraName>xtion</cameraName>
        <imageTopicName>ir/image_raw</imageTopicName>
        <cameraInfoTopicName>/ir/camera_info</cameraInfoTopicName>
        <depthImageTopicName>depth/image_raw</depthImageTopicName>
        <depthImageCameraInfoTopicName>depth/camera_info</depthImageCameraInfoTopicName>
        <pointCloudTopicName>depth/points</pointCloudTopicName>
        <frameName>xtion_optical_frame</frameName>
        <pointCloudCutoff>0.5</pointCloudCutoff>
        <distortionK1>0.00000001</distortionK1>
        <distortionK2>0.00000001</distortionK2>
        <distortionK3>0.00000001</distortionK3>
        <distortionT1>0.00000001</distortionT1>
        <distortionT2>0.00000001</distortionT2>
      </plugin>
    </sensor>
    <sensor name="xtion_frame_sensor" type="depth">
      <always_on>true</always_on>
      <update_rate>20.0</update_rate>
      <camera>
        <horizontal_fov>0.994837673637</horizontal_fov>
        <image>
          <format>R8G8B8</format>
          <width>640</width>
          <height>480</height>
        </image>
        <clip>
          <near>0.01</near>
          <far>5</far>
        </clip>
      </camera>
      <plugin filename="libgazebo_ros_openni_kinect.so" name="xtion_frame_controller">
        <alwaysOn>true</alwaysOn>
        <updateRate>30.0</updateRate>
        <cameraName>xtion</cameraName>
        <imageTopicName>rgb/image_raw</imageTopicName>
        <cameraInfoTopicName>rgb/camera_info</cameraInfoTopicName>
        <depthImageTopicName>depth_registered/image_raw</depthImageTopicName>
        <depthImageCameraInfoTopicName>depth_registered/camera_info</depthImageCameraInfoTopicName>
        <pointCloudTopicName>depth_registered/points</pointCloudTopicName>
        <frameName>xtion_rgb_optical_frame</frameName>
        <pointCloudCutoff>0.5</pointCloudCutoff>
        <pointCloudCutoffMax>8.0</pointCloudCutoffMax>
        <distortionK1>0.00000001</distortionK1>
        <distortionK2>0.00000001</distortionK2>
        <distortionK3>0.00000001</distortionK3>
        <distortionT1>0.00000001</distortionT1>
        <distortionT2>0.00000001</distortionT2>
      </plugin>
    </sensor>
  </gazebo>
  <!--************************-->
  <!--        SHOULDER        -->
  <!--************************-->
  <link name="arm_1_link">
    <inertial>
      <origin rpy="0 0 0" xyz="0.08375 0.00308 -0.04965"/>
      <mass value="2.64731"/>
      <inertia ixx="0.01488823102" ixy="0.00097928027" ixz="-0.014599404" iyy="0.03785812845" iyz="-0.0008663619" izz="0.0261720489"/>
    </inertial>
    <!-- M90 module -->
    <visual>
      <origin rpy="0 0 0" xyz="0 0 -0.0425"/>
      <geometry>
        <cylinder length="0.085" radius="0.045"/>
      </geometry>
      <material name="DarkGrey"/>
    </visual>
    <collision>
      <origin rpy="0 0 0" xyz="0 0 -0.0425"/>
      <geometry>
        <cylinder length="0.085" radius="0.045"/>
      </geometry>
      <material name="DarkGrey"/>
    </collision>
    <!-- Connecting plate -->
    <visual>
      <origin rpy="0 0 0" xyz="0.05 0 0.01"/>
      <geometry>
        <box size="0.2 0.09 0.02"/>
      </geometry>
      <material name="Blue"/>
    </visual>
    <collision>
      <origin rpy="0 0 0" xyz="0 0 -0.0425"/>
      <geometry>
        <cylinder length="0.02" radius="0.045"/>
      </geometry>
      <material name="Blue"/>
    </collision>
    <!-- Root of arm -->
    <visual>
      <origin rpy="-1.57079632679 0 3.14159265359" xyz="0.12 0 -0.107"/>
      <geometry>
        <mesh filename="package://marco_description/meshes/arm/arm_2.dae" scale="1 1 1"/>
      </geometry>
      <material name="DarkGrey"/>
    </visual>
    <collision>
      <origin rpy="-1.57079632679 0 3.14159265359" xyz="0.12 0 -0.107"/>
      <geometry>
        <mesh filename="package://marco_description/meshes/arm/arm_2_collision.stl" scale="1 1 1"/>
      </geometry>
    </collision>
  </link>
  <joint name="arm_1_joint" type="revolute">
    <parent link="torso_lift_link"/>
    <child link="arm_1_link"/>
    <origin rpy="0.0 0.0 -1.57079632679" xyz="0.157 0.064625 -0.003"/>
    <axis xyz="0 0 1"/>
    <limit effort="39.0" lower="0.0" upper="3.14159265359" velocity="2.7"/>
    <dynamics damping="1.0" friction="1.0"/>
    <safety_controller k_position="20" k_velocity="20" soft_lower_limit="0.0" soft_upper_limit="3.12159265359"/>
  </joint>
  <link name="arm_2_link">
    <inertial>
      <origin rpy="0 0 0" xyz="0.01435 -0.06294 0.01039"/>
      <mass value="1.58751"/>
      <inertia ixx="0.002253374" ixy="-0.00185617271" ixz="0.00023094382" iyy="0.01079198201" iyz="-0.00004741252" izz="0.0112248261"/>
    </inertial>
    <visual>
      <origin rpy="3.14159265359 0.0 -1.57079632679" xyz="0 0 0"/>
      <geometry>
        <mesh filename="package://marco_description/meshes/arm/arm_2.dae" scale="1 1 1"/>
      </geometry>
      <material name="DarkGrey"/>
    </visual>
    <collision>
      <origin rpy="3.14159265359 0.0 -1.57079632679" xyz="0 0 0"/>
      <geometry>
        <mesh filename="package://marco_description/meshes/arm/arm_2_collision.stl" scale="1 1 1"/>
      </geometry>
    </collision>
  </link>
  <joint name="arm_2_joint" type="revolute">
    <parent link="arm_1_link"/>
    <child link="arm_2_link"/>
    <origin rpy="1.57079632679 0.0 0.0" xyz="0.12 0.006 -0.107"/>
    <axis xyz="0 0 1"/>
    <limit effort="39.0" lower="-1.96349540849" upper="0.785398163397" velocity="3.66"/>
    <dynamics damping="1.0" friction="1.0"/>
    <safety_controller k_position="20" k_velocity="20" soft_lower_limit="-1.94349540849" soft_upper_limit="0.372699081699"/>
  </joint>
  <link name="arm_3_link">
    <inertial>
      <origin rpy="0 0 0" xyz="0.00557 -0.01042 -0.10388"/>
      <mass value="1.79881"/>
      <inertia ixx="0.02682610467" ixy="-0.00019692212" ixz="-0.0015045329" iyy="0.02638053578" iyz="0.00263989274" izz="0.002385016"/>
    </inertial>
    <visual>
      <origin rpy="0 0 0" xyz="0 0 -0.055"/>
      <geometry>
        <mesh filename="package://marco_description/meshes/arm/arm_3.dae" scale="1 1 1"/>
      </geometry>
      <material name="DarkGrey"/>
    </visual>
    <visual>
      <origin rpy="0 0 0" xyz="0 0 0"/>
      <geometry>
        <cylinder length="0.07" radius="0.05"/>
      </geometry>
      <material name="DarkGrey"/>
    </visual>
    <collision>
      <origin rpy="0 0 0" xyz="0 0 -0.055"/>
      <geometry>
        <mesh filename="package://marco_description/meshes/arm/arm_3_collision.stl" scale="1 1 1"/>
      </geometry>
    </collision>
    <collision>
      <origin rpy="0 0 0" xyz="0 0 0"/>
      <geometry>
        <cylinder length="0.07" radius="0.05"/>
      </geometry>
      <material name="DarkGrey"/>
    </collision>
  </link>
  <joint name="arm_3_joint" type="revolute">
    <parent link="arm_2_link"/>
    <child link="arm_3_link"/>
    <origin rpy="0.0 -1.57079632679 0" xyz="0.142 -0.02 0"/>
    <axis xyz="0 0 1"/>
    <limit effort="17.86" lower="-3.49065850399" upper="1.57079632679" velocity="4.58"/>
    <dynamics damping="1.0" friction="1.0"/>
    <safety_controller k_position="20" k_velocity="20" soft_lower_limit="-3.47065850399" soft_upper_limit="1.55079632679"/>
  </joint>
  <!--************************-->
  <!--        ELBOW           -->
  <!--************************-->
  <link name="arm_4_link">
    <inertial>
      <origin rpy="0 0 0" xyz="-0.06578 0.0126 0.01194"/>
      <mass value="1.35076"/>
      <inertia ixx="0.00220509703" ixy="-0.00165490069" ixz="-0.0002277335" iyy="0.01177626386" iyz="0.00003472435" izz="0.0120918757"/>
    </inertial>
    <visual>
      <origin rpy="0 0 0" xyz="0 0 0"/>
      <geometry>
        <mesh filename="package://marco_description/meshes/arm/arm_4.dae" scale="1 1 1"/>
      </geometry>
      <material name="DarkGrey"/>
    </visual>
    <visual>
      <origin rpy="0 1.57079632679 0" xyz="-0.15 0.02 0"/>
      <geometry>
        <cylinder length="0.07" radius="0.05"/>
      </geometry>
      <material name="DarkGrey"/>
    </visual>
    <collision>
      <origin rpy="0 0 0" xyz="0 0 0"/>
      <geometry>
        <mesh filename="package://marco_description/meshes/arm/arm_4_collision.stl" scale="1 1 1"/>
      </geometry>
    </collision>
    <collision>
      <origin rpy="0 1.57079632679 0" xyz="-0.15 0.02 0"/>
      <geometry>
        <cylinder length="0.07" radius="0.05"/>
      </geometry>
      <material name="DarkGrey"/>
    </collision>
  </link>
  <joint name="arm_4_joint" type="revolute">
    <parent link="arm_3_link"/>
    <child link="arm_4_link"/>
    <origin rpy="0 -1.57079632679 0" xyz="0 -0.02 -0.142"/>
    <axis xyz="0 0 1"/>
    <limit effort="17.86" lower="-0.785398163397" upper="2.35619449019" velocity="4.58"/>
    <dynamics damping="1.0" friction="1.0"/>
    <safety_controller k_position="20" k_velocity="20" soft_lower_limit="-1.59079632679" soft_upper_limit="2.33619449019"/>
  </joint>
  <gazebo reference="arm_1_link">
    <mu1>0.9</mu1>
    <mu2>0.9</mu2>
    <material>Gazebo/DarkGrey</material>
  </gazebo>
  <gazebo reference="arm_2_link">
    <mu1>0.9</mu1>
    <mu2>0.9</mu2>
    <material>Gazebo/DarkGrey</material>
  </gazebo>
  <gazebo reference="arm_3_link">
    <mu1>0.9</mu1>
    <mu2>0.9</mu2>
    <material>Gazebo/DarkGrey</material>
  </gazebo>
  <gazebo reference="arm_4_link">
    <mu1>0.9</mu1>
    <mu2>0.9</mu2>
    <material>Gazebo/DarkGrey</material>
  </gazebo>
  <gazebo reference="arm_1_joint">
    <implicitSpringDamper>1</implicitSpringDamper>
  </gazebo>
  <gazebo reference="arm_2_joint">
    <implicitSpringDamper>1</implicitSpringDamper>
  </gazebo>
  <gazebo reference="arm_3_joint">
    <implicitSpringDamper>1</implicitSpringDamper>
  </gazebo>
  <gazebo reference="arm_4_joint">
    <implicitSpringDamper>1</implicitSpringDamper>
  </gazebo>
  <!--************************-->
  <!--        WRIST           -->
  <!--************************-->
  <link name="arm_5_link">
    <inertial>
      <origin rpy="0 0 0" xyz="-0.00084 0.00001 0.07797"/>
      <mass value="1.32698"/>
      <inertia ixx="0.01049566566" ixy="-0.00000316264" ixz="-0.00012548144" iyy="0.01028836655" iyz="0.0000027891" izz="0.00094419873"/>
    </inertial>
    <visual>
      <origin rpy="0 0 0" xyz="0 0 0"/>
      <geometry>
        <mesh filename="package://marco_description/meshes/arm/arm_5.dae" scale="1 1 -1"/>
      </geometry>
      <material name="LightGrey"/>
    </visual>
    <collision>
      <origin rpy="0 0 0" xyz="0 0 0"/>
      <geometry>
        <mesh filename="package://marco_description/meshes/arm/arm_5_collision.stl" scale="1 1 -1"/>
      </geometry>
    </collision>
  </link>
  <joint name="arm_5_joint" type="revolute">
    <parent link="arm_4_link"/>
    <child link="arm_5_link"/>
    <origin rpy="0.0 -1.57079632679 0.0" xyz="-0.153 0.02 0"/>
    <axis xyz="0 0 1"/>
    <limit effort="3" lower="-2.09439510239" upper="2.09439510239" velocity="1.95"/>
    <!--TODO: Check effort value!-->
    <dynamics damping="1.0" friction="1.0"/>
    <safety_controller k_position="20" k_velocity="20" soft_lower_limit="-2.07439510239" soft_upper_limit="2.07439510239"/>
  </joint>
  <link name="arm_6_link">
    <inertial>
      <origin rpy="0 0 0" xyz="-0.000014 -0.00368 1e-05"/>
      <mass value="0.35781"/>
      <inertia ixx="0.00016489507" ixy="0.0000002779" ixz="0.00000009308" iyy="0.00013154987" iyz="0.00000007106" izz="0.00011998795"/>
    </inertial>
    <visual>
      <origin rpy="0 0 0" xyz="0 0 0"/>
      <geometry>
        <mesh filename="package://marco_description/meshes/arm/arm_6.dae" scale="1 1 -1"/>
      </geometry>
      <material name="LightGrey"/>
    </visual>
    <collision>
      <origin rpy="0 0 0" xyz="0 0 0"/>
      <geometry>
        <cylinder length="0.0385" radius="0.04"/>
      </geometry>
    </collision>
  </link>
  <joint name="arm_6_joint" type="revolute">
    <parent link="arm_5_link"/>
    <child link="arm_6_link"/>
    <origin rpy="-1.57079632679 0 0" xyz="0 0 0.15"/>
    <axis xyz="0 0 1"/>
    <limit effort="6.6" lower="-1.57079632679" upper="1.57079632679" velocity="1.76"/>
    <dynamics damping="1.0" friction="1.0"/>
    <safety_controller k_position="20" k_velocity="20" soft_lower_limit="-1.55079632679" soft_upper_limit="1.55079632679"/>
  </joint>
  <link name="arm_7_link">
    <inertial>
      <origin rpy="0 0 0" xyz="0 -0.00005 -0.01573"/>
      <mass value="0.60721"/>
      <!-- Adding 400g extra for gravity compensation mode to compensate to not have the hand model in it -->
      <inertia ixx="0.00008977003" ixy="-0.00000000001" ixz="0.0" iyy="0.00008968773" iyz="-0.00000021816" izz="0.00000951878"/>
    </inertial>
    <visual>
      <origin rpy="0 0 0" xyz="0 0 0.046"/>
      <geometry>
        <cylinder length="0.005" radius="0.02"/>
      </geometry>
      <material name="DarkGrey"/>
    </visual>
    <collision>
      <origin rpy="0 0 0" xyz="0 0 0.0345"/>
      <geometry>
        <cylinder length="0.023" radius="0.02"/>
      </geometry>
    </collision>
  </link>
  <joint name="arm_7_joint" type="revolute">
    <parent link="arm_6_link"/>
    <child link="arm_7_link"/>
    <origin rpy="1.57079632679 0 0" xyz="0 0 0"/>
    <axis xyz="0 0 1"/>
    <limit effort="6.6" lower="-2.09439510239" upper="2.09439510239" velocity="1.76"/>
    <dynamics damping="1.0" friction="1.0"/>
    <safety_controller k_position="20" k_velocity="20" soft_lower_limit="-2.07439510239" soft_upper_limit="2.07439510239"/>
  </joint>
  <gazebo reference="arm_5_link">
    <mu1>0.9</mu1>
    <mu2>0.9</mu2>
  </gazebo>
  <gazebo reference="arm_6_link">
    <mu1>0.9</mu1>
    <mu2>0.9</mu2>
  </gazebo>
  <gazebo reference="arm_7_link">
    <mu1>0.9</mu1>
    <mu2>0.9</mu2>
  </gazebo>
  <gazebo reference="arm_5_joint">
    <implicitSpringDamper>1</implicitSpringDamper>
  </gazebo>
  <gazebo reference="arm_6_joint">
    <implicitSpringDamper>1</implicitSpringDamper>
  </gazebo>
  <gazebo reference="arm_7_joint">
    <implicitSpringDamper>1</implicitSpringDamper>
    <provideFeedback>1</provideFeedback>
  </gazebo>
  <transmission name="arm_5_trans">
    <type>transmission_interface/SimpleTransmission</type>
    <actuator name="arm_5_motor">
      <mechanicalReduction>1.0</mechanicalReduction>
    </actuator>
    <joint name="arm_5_joint">
      <hardwareInterface>hardware_interface/PositionJointInterface</hardwareInterface>
    </joint>
  </transmission>
  <transmission name="wrist_trans">
    <type>transmission_interface/DifferentialTransmission</type>
    <actuator name="arm_6_motor">
      <role>actuator1</role>
      <mechanicalReduction>-1.0</mechanicalReduction>
    </actuator>
    <actuator name="arm_7_motor">
      <role>actuator2</role>
      <mechanicalReduction>1.0</mechanicalReduction>
    </actuator>
    <joint name="arm_6_joint">
      <role>joint1</role>
      <offset>0.0</offset>
      <mechanicalReduction>1.0</mechanicalReduction>
      <hardwareInterface>hardware_interface/PositionJointInterface</hardwareInterface>
    </joint>
    <joint name="arm_7_joint">
      <role>joint2</role>
      <offset>0.0</offset>
      <mechanicalReduction>-1</mechanicalReduction>
      <hardwareInterface>hardware_interface/PositionJointInterface</hardwareInterface>
    </joint>
  </transmission>
  <!--***********************-->
  <!--        TOOL           -->
  <!--***********************-->
  <link name="arm_tool_link">
    <inertial>
      <mass value="0.1"/>
      <inertia ixx="0.0" ixy="0.0" ixz="0.0" iyy="0.0" iyz="0.0" izz="0.0"/>
    </inertial>
    <visual>
      <origin rpy="0 1.57079632679 0" xyz="0.001 0 0"/>
      <geometry>
        <cylinder length="0.005" radius="0.005"/>
      </geometry>
      <material name="LightGrey"/>
    </visual>
    <collision>
      <origin rpy="0 1.57079632679 0" xyz="0.001 0 0"/>
      <geometry>
        <cylinder length="0.005" radius="0.005"/>
      </geometry>
    </collision>
  </link>
  <joint name="arm_tool_joint" type="fixed">
    <parent link="arm_7_link"/>
    <child link="arm_tool_link"/>
    <origin rpy="1.57079632679 -1.57079632679 3.14159265359" xyz="0 0 0.046"/>
  </joint>
  <transmission name="arm_1_trans">
    <type>transmission_interface/SimpleTransmission</type>
    <actuator name="arm_1_motor">
      <mechanicalReduction>1.0</mechanicalReduction>
    </actuator>
    <joint name="arm_1_joint">
      <hardwareInterface>hardware_interface/PositionJointInterface</hardwareInterface>
      <hardwareInterface>hardware_interface/EffortJointInterface</hardwareInterface>
    </joint>
  </transmission>
  <transmission name="arm_2_trans">
    <type>transmission_interface/SimpleTransmission</type>
    <actuator name="arm_2_motor">
      <mechanicalReduction>1.0</mechanicalReduction>
    </actuator>
    <joint name="arm_2_joint">
      <hardwareInterface>hardware_interface/PositionJointInterface</hardwareInterface>
      <hardwareInterface>hardware_interface/EffortJointInterface</hardwareInterface>
    </joint>
  </transmission>
  <transmission name="arm_3_trans">
    <type>transmission_interface/SimpleTransmission</type>
    <actuator name="arm_3_motor">
      <mechanicalReduction>1.0</mechanicalReduction>
    </actuator>
    <joint name="arm_3_joint">
      <hardwareInterface>hardware_interface/PositionJointInterface</hardwareInterface>
      <hardwareInterface>hardware_interface/EffortJointInterface</hardwareInterface>
    </joint>
  </transmission>
  <transmission name="arm_4_trans">
    <type>transmission_interface/SimpleTransmission</type>
    <actuator name="arm_4_motor">
      <mechanicalReduction>1.0</mechanicalReduction>
    </actuator>
    <joint name="arm_4_joint">
      <hardwareInterface>hardware_interface/PositionJointInterface</hardwareInterface>
      <hardwareInterface>hardware_interface/EffortJointInterface</hardwareInterface>
    </joint>
  </transmission>
  <!--************************-->
  <!--        ft sensor       -->
  <!--************************-->
  <link name="wrist_ft_link">
    <inertial>
      <mass value="0.1"/>
      <inertia ixx="0.0" ixy="0.0" ixz="0.0" iyy="0.0" iyz="0.0" izz="0.0"/>
    </inertial>
    <visual>
      <origin rpy="0 0 0" xyz="0 0 0"/>
      <geometry>
        <cylinder length="0.0157" radius="0.0225"/>
      </geometry>
      <material name="LightGrey"/>
    </visual>
    <collision>
      <origin rpy="0 0 0" xyz="0 0 0"/>
      <geometry>
        <cylinder length="0.0157" radius="0.0225"/>
      </geometry>
    </collision>
  </link>
  <joint name="wrist_ft_joint" type="fixed">
    <parent link="arm_tool_link"/>
    <child link="wrist_ft_link"/>
    <origin rpy="1.57079632679 0 1.57079632679" xyz="0.00785 0 0"/>
  </joint>
  <!--***********************-->
  <!--       FT TOOL         -->
  <!--***********************-->
  <link name="wrist_ft_tool_link">
    <inertial>
      <mass value="0.1"/>
      <inertia ixx="0.0" ixy="0.0" ixz="0.0" iyy="0.0" iyz="0.0" izz="0.0"/>
    </inertial>
    <visual>
      <origin rpy="0 1.57079632679 0" xyz="0.0 0 0"/>
      <geometry>
        <cylinder length="0.00975" radius="0.025"/>
      </geometry>
      <material name="FlatBlack"/>
    </visual>
    <collision>
      <origin rpy="0 1.57079632679 0" xyz="0.0 0 0"/>
      <geometry>
        <cylinder length="0.00975" radius="0.025"/>
      </geometry>
    </collision>
  </link>
  <joint name="wrist_tool_joint" type="fixed">
    <parent link="wrist_ft_link"/>
    <child link="wrist_ft_tool_link"/>
    <origin rpy="-1.57079632679 -1.57079632679 0" xyz="0 0 0.012725"/>
  </joint>
  <link name="gripper_wrist_link">
    <inertial>
      <origin rpy="0 0 0" xyz="0 0.011 0"/>
      <mass value="0.05"/>
      <inertia ixx="0.00000786" ixy="0.00000001" ixz="0.00000003" iyy="0.00001950" iyz="0.00000000" izz="0.00001497"/>
    </inertial>
    <visual>
      <origin rpy="0 0 0" xyz="0 0 0"/>
      <geometry>
        <mesh filename="package://hit_gripper_description/meshes/wrist_mount.stl" scale="1 1 1"/>
      </geometry>
      <material name="White"/>
    </visual>
    <collision>
      <origin rpy="0 0 0" xyz="0 0 0"/>
      <geometry>
        <mesh filename="package://hit_gripper_description/meshes/wrist_mount.stl"/>
      </geometry>
    </collision>
  </link>
  <joint name="gripper_wrist_joint" type="fixed">
    <origin rpy="3.14159265359 0 -1.57079632679" xyz="0.029 0 0"/>
    <parent link="wrist_ft_tool_link"/>
    <child link="gripper_wrist_link"/>
    <axis xyz="0 0 0"/>
  </joint>
  <link name="gripper_body_link">
    <inertial>
      <origin rpy="0 0 0" xyz="0 0.033 0"/>
      <mass value="0.118"/>
      <inertia ixx="0.00004579" ixy="-0.00000011" ixz="0.00000033" iyy="0.00004825" iyz="0.00000049" izz="0.00007495"/>
    </inertial>
    <visual>
      <origin rpy="0 0 0" xyz="0 0 0"/>
      <geometry>
        <mesh filename="package://hit_gripper_description/meshes/body.stl" scale="1 1 1"/>
      </geometry>
      <material name="White"/>
    </visual>
    <collision>
      <origin rpy="0 0 0" xyz="0 0 0"/>
      <geometry>
        <mesh filename="package://hit_gripper_description/meshes/body.stl"/>
      </geometry>
    </collision>
  </link>
  <joint name="gripper_body_joint" type="fixed">
    <origin rpy="3.14159265359 0 0" xyz="0 0 0"/>
    <parent link="gripper_wrist_link"/>
    <child link="gripper_body_link"/>
    <axis xyz="0 0 0"/>
  </joint>
  <link name="gripper_grasp_link">
    <inertial>
      <origin rpy="0 0 0" xyz="0 0.033 0"/>
      <mass value="0.00001"/>
      <inertia ixx="0.00004579" ixy="-0.00000011" ixz="0.00000033" iyy="0.00004825" iyz="0.00000049" izz="0.00007495"/>
    </inertial>
    <!--<visual>
      <origin xyz="0 0 0" rpy="0 0 0" />
      <geometry>
        <mesh filename="package://hit_gripper_description/meshes/body.stl" scale="1 1 1"/>
      </geometry>
      <material name="White"/>
    </visual>
    <collision>
      <origin xyz="0 0 0" rpy="0 0 0" />
      <geometry>
        <mesh filename="package://hit_gripper_description/meshes/body.stl"/>
      </geometry>
    </collision>-->
  </link>
  <joint name="gripper_grasp_joint" type="fixed">
    <origin rpy="0 0 0" xyz="0 0.09 0"/>
    <parent link="gripper_body_link"/>
    <child link="gripper_grasp_link"/>
    <axis xyz="0 0 0"/>
  </joint>
  <link name="gripper_motor_link">
    <inertial>
      <origin rpy="0 0 0" xyz="0 -0.012 0"/>
      <mass value="0.117"/>
      <inertia ixx="0.00001193" ixy="0.00000000" ixz="-0.00000000" iyy="0.00000690" iyz="0.00000010" izz="0.00001053"/>
    </inertial>
    <visual>
      <origin rpy="0 0 0" xyz="0 0 0"/>
      <geometry>
        <mesh filename="package://hit_gripper_description/meshes/motor.stl" scale="1 1 1"/>
      </geometry>
      <material name="Black"/>
    </visual>
    <!--<collision>
      <origin xyz="0 0.001 -0.01" rpy="0 0 0" />
      <geometry>
        <mesh filename="package://hit_gripper_description/meshes/motor.stl" scale="0.9 0.9 0.9"/>
      </geometry>
    </collision>-->
  </link>
  <joint name="gripper_motor_joint" type="fixed">
    <origin rpy="0 0 0" xyz="-0.00515 0.0353 -0.0315"/>
    <parent link="gripper_body_link"/>
    <child link="gripper_motor_link"/>
    <axis xyz="0 0 0"/>
  </joint>
  <link name="gripper_camera_mount_link">
    <inertial>
      <origin rpy="0 0 0" xyz="0 0.0153 0"/>
      <mass value="0.008"/>
      <inertia ixx="0.00000100" ixy="0.00000001" ixz="-0.00000000" iyy="0.00000001" iyz="0.00000074" izz="0.00000137"/>
    </inertial>
    <visual>
      <origin rpy="0 0 0" xyz="0 0 0"/>
      <geometry>
        <mesh filename="package://hit_gripper_description/meshes/camera_mount.stl" scale="1 1 1"/>
      </geometry>
      <material name="White"/>
    </visual>
    <collision>
      <origin rpy="0 0 0" xyz="0 0 0"/>
      <geometry>
        <mesh filename="package://hit_gripper_description/meshes/camera_mount.stl"/>
      </geometry>
    </collision>
  </link>
  <joint name="gripper_camera_mount_joint" type="fixed">
    <origin rpy="-1.57079632679 0 0.261799387799" xyz="0.03 0.02 -0.014"/>
    <parent link="gripper_body_link"/>
    <child link="gripper_camera_mount_link"/>
    <axis xyz="0 0 0"/>
  </joint>
  <link name="gripper_link">
    <inertial>
      <origin rpy="0 0 0" xyz="0 0 0.008"/>
      <mass value="0.004"/>
      <inertia ixx="0.00000015" ixy="0.00000000" ixz="-0.00000000" iyy="0.00000015" iyz="0.00000000" izz="0.00000015"/>
    </inertial>
    <visual>
      <origin rpy="0 0 0" xyz="0 0 0"/>
      <geometry>
        <mesh filename="package://hit_gripper_description/meshes/gear.stl" scale="1 1 1"/>
      </geometry>
      <material name="White"/>
    </visual>
    <!--<collision>
      <origin xyz="0 0 0" rpy="0 0 0" />
      <geometry>
        <mesh filename="package://hit_gripper_description/meshes/gear.stl"/>
      </geometry>
    </collision>-->
  </link>
  <joint name="gripper_joint" type="revolute">
    <origin rpy="0 0 0" xyz="-0.0052 0.0352 0"/>
    <parent link="gripper_body_link"/>
    <child link="gripper_link"/>
    <axis xyz="0 0 1"/>
    <limit effort="1.0" lower="-0.226892802759" upper="1.0471975512" velocity="1.0"/>
    <dynamics damping="1.0" friction="1.0"/>
  </joint>
  <link name="gripper_finger_inner_left_link">
    <inertial>
      <origin rpy="0 0 0" xyz="0 -0.0185 0"/>
      <mass value="0.02"/>
      <inertia ixx="0.00000780" ixy="0.00000057" ixz="-0.00000000" iyy="0.00000101" iyz="-0.00000003" izz="0.00000781"/>
    </inertial>
    <visual>
      <origin rpy="0 0 0" xyz="0 0 0"/>
      <geometry>
        <mesh filename="package://hit_gripper_description/meshes/finger_inner_left.stl" scale="1 1 1"/>
      </geometry>
      <material name="White"/>
    </visual>
    <!--<collision>
      <origin xyz="0 0 0" rpy="0 0 0" />
      <geometry>
        <mesh filename="package://hit_gripper_description/meshes/finger_inner_left.stl" scale="0.99 0.99 0.99"/>
      </geometry>
    </collision>-->
  </link>
  <joint name="gripper_finger_inner_left_joint" type="revolute">
    <origin rpy="3.14159265359 0 0" xyz="0.019 0.05925 0"/>
    <parent link="gripper_body_link"/>
    <child link="gripper_finger_inner_left_link"/>
    <axis xyz="0 0 1"/>
    <limit effort="1.0" lower="-0.226892802759" upper="1.0471975512" velocity="1.0"/>
    <dynamics damping="1.0" friction="1.0"/>
    <mimic joint="gripper_joint" multiplier="1.0" offset="0.0"/>
  </joint>
  <link name="gripper_finger_inner_right_link">
    <inertial>
      <origin rpy="0 0 0" xyz="-0.00157 0.017 0"/>
      <mass value="0.02"/>
      <inertia ixx="0.00000755" ixy="-0.00000041" ixz="-0.00000000" iyy="0.00000091" iyz="0.00000003" izz="0.00000762"/>
    </inertial>
    <visual>
      <origin rpy="0 0 0" xyz="0 0 0"/>
      <geometry>
        <mesh filename="package://hit_gripper_description/meshes/finger_inner_right.stl" scale="1 1 1"/>
      </geometry>
      <material name="White"/>
    </visual>
    <!--<collision>
      <origin xyz="0 0 0" rpy="0 0 0" />
      <geometry>
        <mesh filename="package://hit_gripper_description/meshes/finger_inner_right.stl" scale="0.99 0.99 0.99"/>
      </geometry>
    </collision>-->
  </link>
  <joint name="gripper_finger_inner_right_joint" type="revolute">
    <origin rpy="0 3.14159265359 0" xyz="-0.019 0.05925 0.0001"/>
    <parent link="gripper_body_link"/>
    <child link="gripper_finger_inner_right_link"/>
    <axis xyz="0 0 1"/>
    <limit effort="1.0" lower="-1.0471975512" upper="0.226892802759" velocity="1.0"/>
    <dynamics damping="1.0" friction="1.0"/>
    <mimic joint="gripper_joint" multiplier="-1.0" offset="0.0"/>
  </joint>
  <link name="gripper_finger_outer_left_link">
    <inertial>
      <origin rpy="0 0 0" xyz="-0.005 0.031 0"/>
      <mass value="0.0125"/>
      <inertia ixx="0.00000335" ixy="0.00000007" ixz="-0.00000000" iyy="0.00000049" iyz="0.00000000" izz="0.00000303"/>
    </inertial>
    <visual>
      <origin rpy="0 0 0" xyz="0 0 0"/>
      <geometry>
        <mesh filename="package://hit_gripper_description/meshes/finger_outer.stl" scale="1 1 1"/>
      </geometry>
      <material name="White"/>
    </visual>
    <!--<collision>
      <origin xyz="0 0 0" rpy="0 0 0" />
      <geometry>
        <mesh filename="package://hit_gripper_description/meshes/finger_outer.stl" scale="0.99 0.99 0.99"/>
      </geometry>
    </collision>-->
  </link>
  <joint name="gripper_finger_outer_left_joint" type="revolute">
    <origin rpy="0 3.14159265359 0.0558505360638" xyz="0.033135 0.05175 -0.0001"/>
    <parent link="gripper_body_link"/>
    <child link="gripper_finger_outer_left_link"/>
    <axis xyz="0 0 1"/>
    <limit effort="1.0" lower="-0.226892802759" upper="1.0471975512" velocity="1.0"/>
    <dynamics damping="1.0" friction="1.0"/>
    <mimic joint="gripper_joint" multiplier="1.0" offset="0.0"/>
  </joint>
  <link name="gripper_finger_outer_right_link">
    <inertial>
      <origin rpy="0 0 0" xyz="-0.005 0.031 0"/>
      <mass value="0.0125"/>
      <inertia ixx="0.00000335" ixy="0.00000007" ixz="-0.00000000" iyy="0.00000049" iyz="0.00000000" izz="0.00000303"/>
    </inertial>
    <visual>
      <origin rpy="0 0 0" xyz="0 0 0"/>
      <geometry>
        <mesh filename="package://hit_gripper_description/meshes/finger_outer.stl" scale="1 1 1"/>
      </geometry>
      <material name="White"/>
    </visual>
    <!--<collision>
      <origin xyz="0 0 0" rpy="0 0 0" />
      <geometry>
        <mesh filename="package://hit_gripper_description/meshes/finger_outer.stl" scale="0.99 0.99 0.99"/>
      </geometry>
    </collision>-->
  </link>
  <joint name="gripper_finger_outer_right_joint" type="revolute">
    <origin rpy="0 0 -0.0558505360638" xyz="-0.033135 0.05175 0"/>
    <parent link="gripper_body_link"/>
    <child link="gripper_finger_outer_right_link"/>
    <axis xyz="0 0 1"/>
    <limit effort="1.0" lower="-0.226892802759" upper="1.0471975512" velocity="1.0"/>
    <dynamics damping="1.0" friction="1.0"/>
    <mimic joint="gripper_joint" multiplier="1.0" offset="0.0"/>
  </joint>
  <link name="gripper_finger_tip_left_link">
    <inertial>
      <origin rpy="0 0 0" xyz="0.0035 0.01 0"/>
      <mass value="0.0137"/>
      <inertia ixx="0.00000177" ixy="0.00000044" ixz="-0.00000000" iyy="0.00000062" iyz="0.00000000" izz="0.00000190"/>
    </inertial>
    <visual>
      <origin rpy="0 0 0" xyz="0 0 0"/>
      <geometry>
        <mesh filename="package://hit_gripper_description/meshes/finger_tip.stl" scale="1 1 1"/>
      </geometry>
      <material name="White"/>
    </visual>
    <collision>
      <origin rpy="0 0 0" xyz="0 0 0"/>
      <geometry>
        <mesh filename="package://hit_gripper_description/meshes/finger_tip.stl"/>
      </geometry>
    </collision>
  </link>
  <joint name="gripper_finger_tip_left_joint" type="revolute">
    <origin rpy="3.14159265359 0 0" xyz="0 -0.057 0"/>
    <parent link="gripper_finger_inner_left_link"/>
    <child link="gripper_finger_tip_left_link"/>
    <axis xyz="0 0 1"/>
    <limit effort="1.0" lower="-0.226892802759" upper="1.0471975512" velocity="1.0"/>
    <dynamics damping="1.0" friction="1.0"/>
    <mimic joint="gripper_joint" multiplier="1.0" offset="0.0"/>
  </joint>
  <link name="gripper_finger_tip_right_link">
    <inertial>
      <origin rpy="0 0 0" xyz="0.0035 0.01 0"/>
      <mass value="0.0137"/>
      <inertia ixx="0.00000177" ixy="0.00000044" ixz="-0.00000000" iyy="0.00000062" iyz="0.00000000" izz="0.00000190"/>
    </inertial>
    <visual>
      <origin rpy="0 0 0" xyz="0 0 0"/>
      <geometry>
        <mesh filename="package://hit_gripper_description/meshes/finger_tip.stl" scale="1 1 1"/>
      </geometry>
      <material name="White"/>
    </visual>
    <collision>
      <origin rpy="0 0 0" xyz="0 0 0"/>
      <geometry>
        <mesh filename="package://hit_gripper_description/meshes/finger_tip.stl"/>
      </geometry>
    </collision>
  </link>
  <joint name="gripper_finger_tip_right_joint" type="revolute">
    <origin rpy="0 0 0" xyz="0 0.057 0"/>
    <parent link="gripper_finger_inner_right_link"/>
    <child link="gripper_finger_tip_right_link"/>
    <axis xyz="0 0 1"/>
    <limit effort="1.0" lower="-0.226892802759" upper="1.0471975512" velocity="1.0"/>
    <dynamics damping="1.0" friction="1.0"/>
    <mimic joint="gripper_joint" multiplier="1.0" offset="0.0"/>
  </joint>
  <gazebo>
    <plugin filename="libroboticsgroup_gazebo_mimic_joint_plugin.so" name="mimic_gripper_finger_inner_left_joint">
      <joint>gripper_joint</joint>
      <mimicJoint>gripper_finger_inner_left_joint</mimicJoint>
      <multiplier>1.0</multiplier>
      <offset>0.0</offset>
      <!-- <hasPID/> -->
    </plugin>
    <plugin filename="libroboticsgroup_gazebo_mimic_joint_plugin.so" name="mimic_gripper_finger_inner_right_joint">
      <joint>gripper_joint</joint>
      <mimicJoint>gripper_finger_inner_right_joint</mimicJoint>
      <multiplier>-1.0</multiplier>
      <offset>0.0</offset>
      <!-- <hasPID/> -->
    </plugin>
    <plugin filename="libroboticsgroup_gazebo_mimic_joint_plugin.so" name="mimic_gripper_finger_outer_left_joint">
      <joint>gripper_joint</joint>
      <mimicJoint>gripper_finger_outer_left_joint</mimicJoint>
      <multiplier>1.0</multiplier>
      <offset>0.0</offset>
      <!-- <hasPID/> -->
    </plugin>
    <plugin filename="libroboticsgroup_gazebo_mimic_joint_plugin.so" name="mimic_gripper_finger_outer_right_joint">
      <joint>gripper_joint</joint>
      <mimicJoint>gripper_finger_outer_right_joint</mimicJoint>
      <multiplier>1.0</multiplier>
      <offset>0.0</offset>
      <!-- <hasPID/> -->
    </plugin>
    <plugin filename="libroboticsgroup_gazebo_mimic_joint_plugin.so" name="mimic_gripper_finger_tip_left_joint">
      <joint>gripper_joint</joint>
      <mimicJoint>gripper_finger_tip_left_joint</mimicJoint>
      <multiplier>1.0</multiplier>
      <offset>0.0</offset>
      <!-- <hasPID/> -->
    </plugin>
    <plugin filename="libroboticsgroup_gazebo_mimic_joint_plugin.so" name="mimic_gripper_finger_tip_right_joint">
      <joint>gripper_joint</joint>
      <mimicJoint>gripper_finger_tip_right_joint</mimicJoint>
      <multiplier>1.0</multiplier>
      <offset>0.0</offset>
      <!-- <hasPID/> -->
    </plugin>
  </gazebo>
  <!--     <plugin filename="libgazebo_underactuated_finger.so" name="gazebo_${name}_underactuated">
      <actuatedJoint>${name}_joint</actuatedJoint>
      <virtualJoint>
        <name>${name}_inner_double_joint</name>
        <scale_factor>1.0</scale_factor>
      </virtualJoint> -->
  <!--       <virtualJoint>
        <name>${name}_fingertip_1_joint</name>
        <scale_factor>-1.0</scale_factor>
      </virtualJoint>
      <virtualJoint>
        <name>${name}_fingertip_2_joint</name>
        <scale_factor>-1.0</scale_factor>
      </virtualJoint>
      <virtualJoint>
        <name>${name}_motor_single_joint</name>
        <scale_factor>1.0</scale_factor>
      </virtualJoint>
      <virtualJoint>
        <name>${name}_fingertip_3_joint</name>
        <scale_factor>-1.0</scale_factor>
      </virtualJoint> -->
  <!--     </plugin> -->
  <gazebo reference="gripper_joint">
    <implicitSpringDamper>1</implicitSpringDamper>
    <provideFeedback>1</provideFeedback>
  </gazebo>
  <gazebo reference="gripper_finger_inner_left_joint">
    <implicitSpringDamper>1</implicitSpringDamper>
    <provideFeedback>1</provideFeedback>
  </gazebo>
  <gazebo reference="gripper_finger_inner_right_joint">
    <implicitSpringDamper>1</implicitSpringDamper>
    <provideFeedback>1</provideFeedback>
  </gazebo>
  <gazebo reference="gripper_finger_outer_left_joint">
    <implicitSpringDamper>1</implicitSpringDamper>
    <provideFeedback>1</provideFeedback>
  </gazebo>
  <gazebo reference="gripper_finger_outer_right_joint">
    <implicitSpringDamper>1</implicitSpringDamper>
    <provideFeedback>1</provideFeedback>
  </gazebo>
  <gazebo reference="gripper_finger_tip_left_joint">
    <implicitSpringDamper>1</implicitSpringDamper>
    <provideFeedback>1</provideFeedback>
  </gazebo>
  <gazebo reference="gripper_finger_tip_right_joint">
    <implicitSpringDamper>1</implicitSpringDamper>
    <provideFeedback>1</provideFeedback>
  </gazebo>
  <gazebo reference="gripper_wrist_link">
    <material>Gazebo/White</material>
  </gazebo>
  <gazebo reference="gripper_body_link">
    <material>Gazebo/White</material>
  </gazebo>
  <gazebo reference="gripper_motor_link">
    <material>Gazebo/FlatBlack</material>
  </gazebo>
  <gazebo reference="gripper_camera_mount_link">
    <material>Gazebo/White</material>
  </gazebo>
  <gazebo reference="gripper_link">
    <material>Gazebo/White</material>
  </gazebo>
  <gazebo reference="gripper_finger_inner_left_link">
    <material>Gazebo/White</material>
  </gazebo>
  <gazebo reference="gripper_finger_inner_right_link">
    <material>Gazebo/White</material>
  </gazebo>
  <gazebo reference="gripper_finger_outer_left_link">
    <material>Gazebo/White</material>
  </gazebo>
  <gazebo reference="gripper_finger_outer_right_link">
    <material>Gazebo/White</material>
  </gazebo>
  <gazebo reference="gripper_finger_tip_left_link">
    <material>Gazebo/White</material>
  </gazebo>
  <gazebo reference="gripper_finger_tip_right_link">
    <material>Gazebo/White</material>
  </gazebo>
  <transmission name="gripper_trans">
    <type>transmission_interface/SimpleTransmission</type>
    <actuator name="gripper_motor">
      <mechanicalReduction>1.0</mechanicalReduction>
    </actuator>
    <joint name="gripper_joint">
      <hardwareInterface>hardware_interface/PositionJointInterface</hardwareInterface>
    </joint>
  </transmission>
  <!-- frames in the center of the camera -->
  <joint name="end_effector_cam_joint" type="fixed">
    <origin rpy="0 0 0" xyz="0 0.021 0"/>
    <parent link="gripper_camera_mount_link"/>
    <child link="end_effector_cam_link"/>
  </joint>
  <link name="end_effector_cam_link">
    <inertial>
      <origin rpy="0 0 0" xyz="0 0 0"/>
      <mass value="1e-5"/>
      <inertia ixx="1e-6" ixy="0.00000000000" ixz="0.00000002565" iyy="1e-6" iyz="0.00000000000" izz="1e-6"/>
    </inertial>
    <visual>
      <origin rpy="0 0 0" xyz="0 0 0"/>
      <geometry>
        <cylinder length="0.04" radius="0.014"/>
      </geometry>
      <material name="Grey">
        <color rgba="0.5 0.5 0.5 1"/>
      </material>
    </visual>
    <collision>
      <origin rpy="0 0 0" xyz="0 0 0"/>
      <geometry>
        <cylinder length="0.04" radius="0.014"/>
      </geometry>
    </collision>
  </link>
  <joint name="end_effector_cam_optical_joint" type="fixed">
    <origin rpy="-1.57079632679 1.57079632679 -1.57079632679" xyz="0 0 -0.025"/>
    <parent link="end_effector_cam_link"/>
    <child link="end_effector_cam_optical_frame"/>
  </joint>
  <link name="end_effector_cam_optical_frame">
    <inertial>
      <origin rpy="0 0 0" xyz="0 0 0"/>
      <mass value="0.001"/>
      <inertia ixx="0.00001" ixy="0" ixz="0" iyy="0.00001" iyz="0" izz="0.00001"/>
    </inertial>
  </link>
  <!-- camera -->
  <gazebo reference="end_effector_cam_optical_frame">
    <sensor name="end_effector_cam" type="camera">
      <update_rate>30.0</update_rate>
      <camera name="end_effector_cam">
        <horizontal_fov>1.3962634</horizontal_fov>
        <image>
          <width>1280</width>
          <height>720</height>
          <format>R8G8B8</format>
        </image>
        <clip>
          <near>0.02</near>
          <far>300</far>
        </clip>
        <noise>
          <type>gaussian</type>
          <!-- Noise is sampled independently per pixel on each frame.
               That pixel's noise value is added to each of its color
               channels, which at that point lie in the range [0,1]. -->
          <mean>0.0</mean>
          <stddev>0.007</stddev>
        </noise>
      </camera>
      <plugin filename="libgazebo_ros_camera.so" name="camera_controller">
        <alwaysOn>true</alwaysOn>
        <updateRate>0.0</updateRate>
        <cameraName>end_effector_cam</cameraName>
        <imageTopicName>image_raw</imageTopicName>
        <cameraInfoTopicName>camera_info</cameraInfoTopicName>
        <frameName>end_effector_cam_optical_frame</frameName>
        <!-- setting hackBaseline to anything but 0.0 will cause a misalignment
            between the gazebo sensor image and the frame it is supposed to
            be attached to -->
        <hackBaseline>0.0</hackBaseline>
        <distortionK1>0.0</distortionK1>
        <distortionK2>0.0</distortionK2>
        <distortionK3>0.0</distortionK3>
        <distortionT1>0.0</distortionT1>
        <distortionT2>0.0</distortionT2>
        <CxPrime>0</CxPrime>
        <Cx>0.0</Cx>
        <Cy>0.0</Cy>
        <focalLength>0.0</focalLength>
      </plugin>
    </sensor>
  </gazebo>
</robot>
